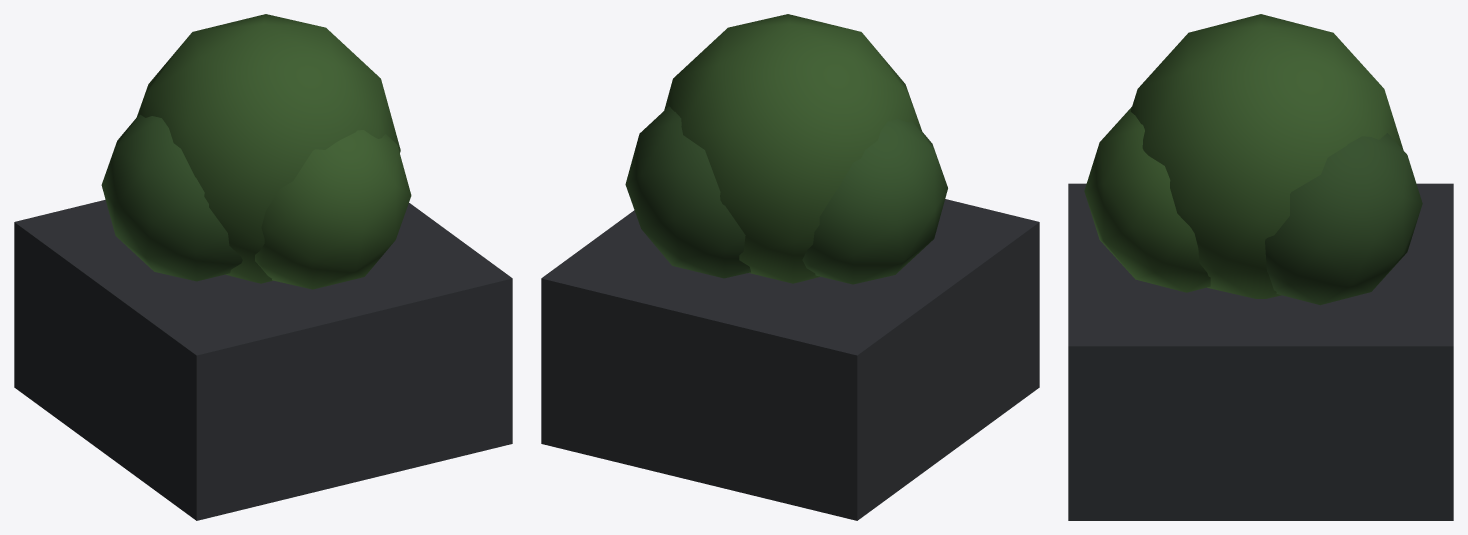
Rendered from prop_planter.glb.
3 renders of one model, left to right at view 1: azimuth 30°, elevation 25°; view 2: azimuth 150°, elevation 25°; view 3: azimuth 270°, elevation 25°, orthographic. The views are drawn at different scales.
Bounding box in the file's own units: 1.4 × 1.66 × 1.4.
